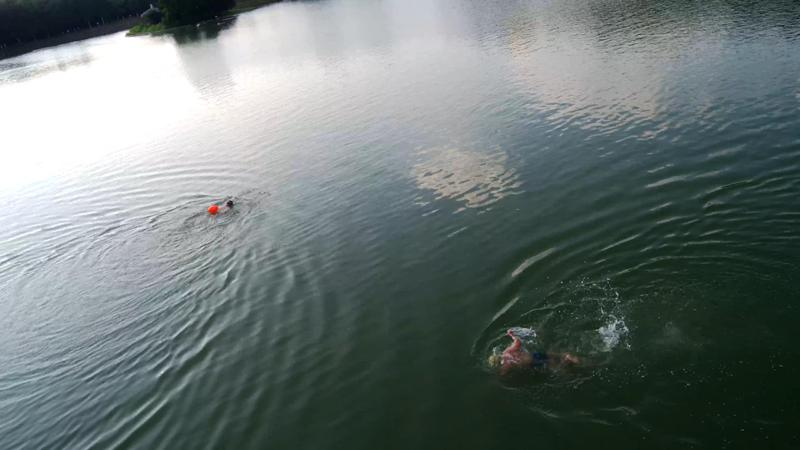swimmers: (486, 328, 578, 379), (206, 200, 234, 218)
